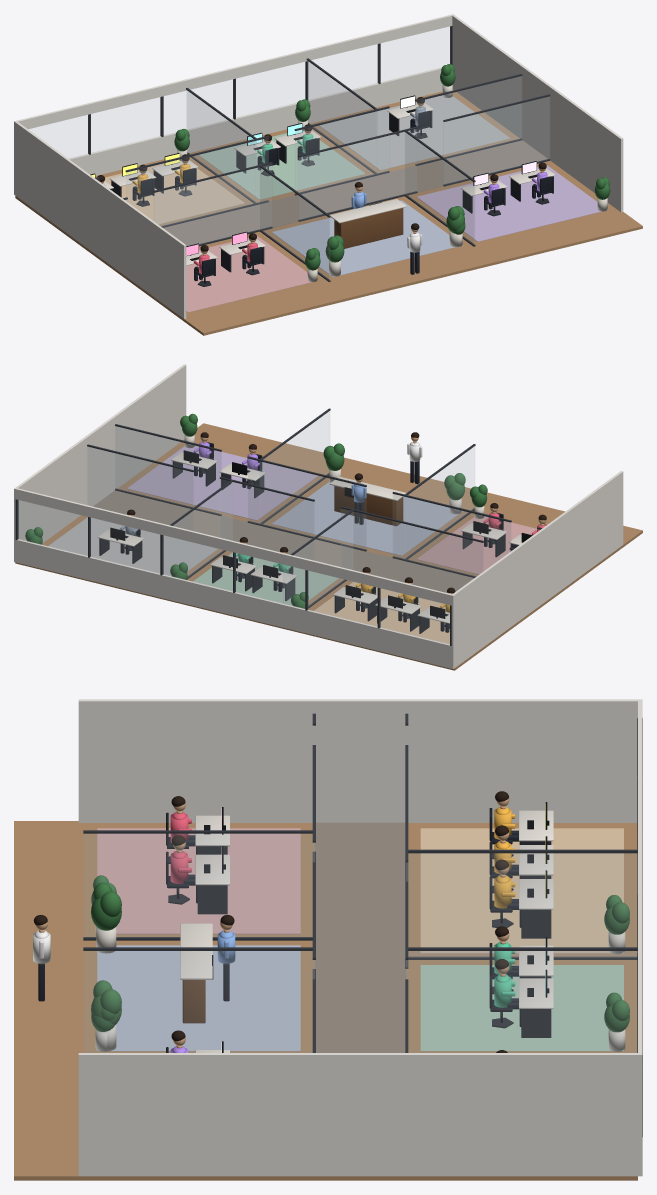
File: office.glb
3 renders of one model, top to bottom at view 1: azimuth 30°, elevation 25°; view 2: azimuth 150°, elevation 25°; view 3: azimuth 270°, elevation 25°, orthographic. The views are drawn at different scales.
Visible parts, largest first — view 1: suelo, ventanal, Cube.008, Cube.009, pasillo, pared_fondo, Cube.025, alfombra_admin, Cube.055, Cube.049, Cube.037, Cube.043 (+16 smaller); view 2: ventanal, Cube.008, suelo, Cube.009, pared_fondo, pasillo, Cube.025, Cube.055, Cube.037, Cube.049, alfombra_contenido, Cube.043 (+17 smaller); view 3: Cube.009, Cube.008, suelo, Cube.013, Cube.019, Cube.010, Cube.016, pasillo, alfombra_video, alfombra_recepcion, alfombra_auto, alfombra_apps (+18 smaller).
Part boxes in pixels (<box>): suelo: <box>15,89,642,335</box>; ventanal: <box>29,27,450,158</box>; Cube.008: <box>14,121,186,318</box>; Cube.009: <box>452,14,623,212</box>; pasillo: <box>163,140,547,246</box>; pared_fondo: <box>14,67,442,194</box>; Cube.025: <box>126,141,255,225</box>; alfombra_admin: <box>319,95,510,170</box>; Cube.055: <box>443,97,549,183</box>; Cube.049: <box>299,132,404,219</box>; Cube.037: <box>416,76,521,162</box>; Cube.043: <box>154,167,259,245</box>; ventanal: <box>18,500,449,644</box>; Cube.008: <box>451,471,623,668</box>; suelo: <box>15,423,642,670</box>; Cube.009: <box>14,364,186,543</box>; pared_fondo: <box>14,539,454,669</box>; pasillo: <box>93,490,474,592</box>; Cube.025: <box>353,512,483,592</box>; Cube.055: <box>115,426,221,513</box>; Cube.037: <box>87,447,193,530</box>; Cube.049: <box>260,462,366,548</box>; alfombra_contenido: <box>127,445,317,520</box>; Cube.043: <box>405,497,511,575</box>; Cube.009: <box>78,1053,642,1176</box>; Cube.008: <box>78,699,642,822</box>; suelo: <box>14,821,637,1180</box>; Cube.013: <box>408,951,637,1052</box>; Cube.019: <box>83,951,312,1052</box>; Cube.010: <box>408,853,637,956</box>; Cube.016: <box>83,834,312,937</box>; pasillo: <box>314,822,406,1052</box>; alfombra_video: <box>420,828,623,953</box>; alfombra_recepcion: <box>97,945,300,1051</box>; alfombra_auto: <box>97,828,300,934</box>; alfombra_apps: <box>420,965,623,1051</box>.
Size of the model in its own units: 18.2 by 3 by 13.61.
